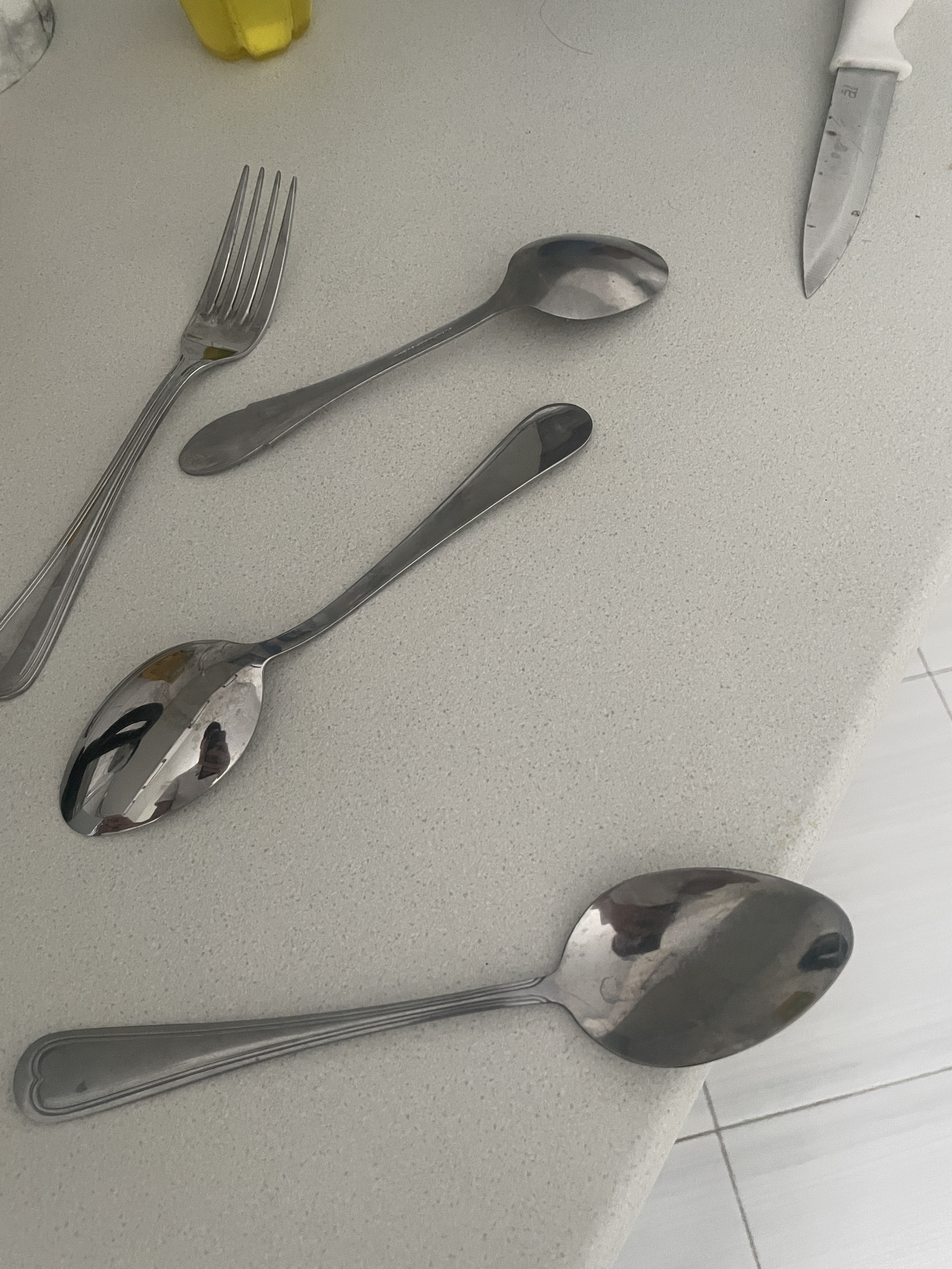knife: (801, 0, 916, 298)
spoon: (60, 402, 596, 835), (12, 868, 857, 1124), (176, 237, 673, 475)
